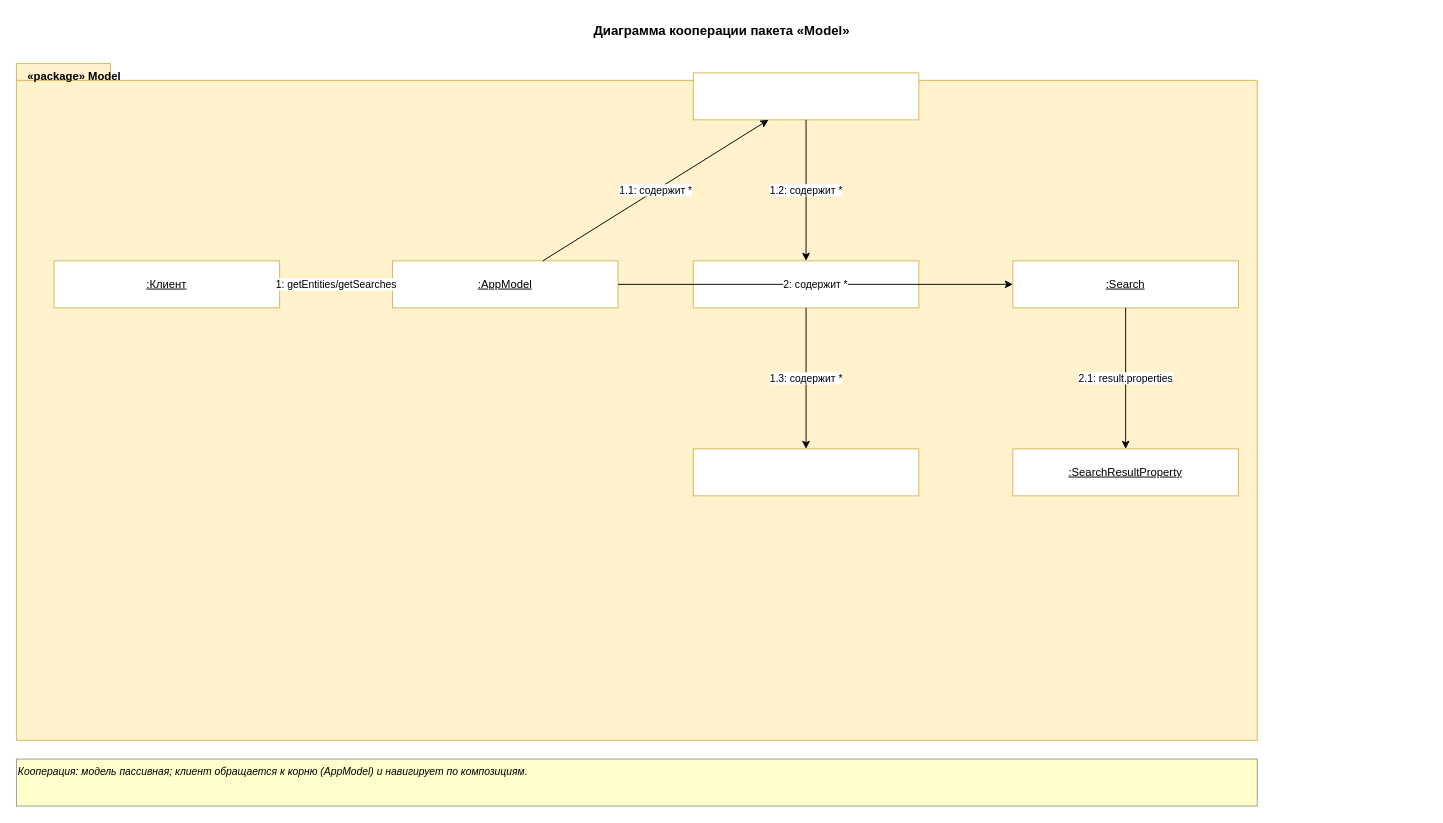
This 1443x823 diagram has some shape labels left out. Here are the shapes that lost their labels. From the top down, the centre of each, then its label:
(x=805, y=96): :EntityObject
(x=805, y=284): :PropertyGroup
(x=805, y=472): :Property
